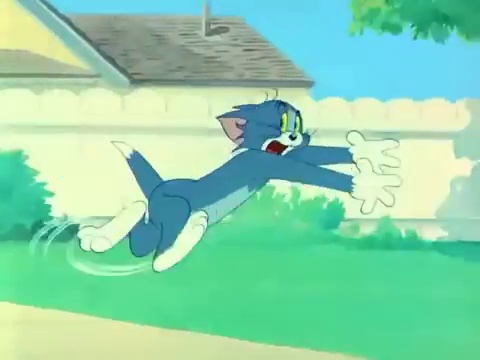tom: (211, 88, 315, 169)
